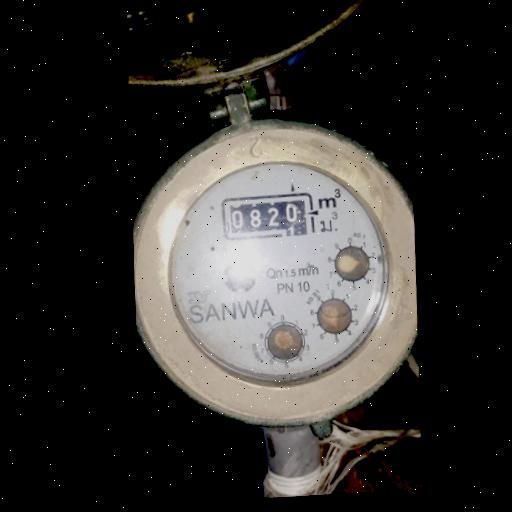0: (280, 197, 307, 237), (226, 203, 249, 235)
2: (260, 199, 285, 231)
8: (244, 200, 265, 232)
border_water_meter_number: (217, 189, 316, 243)
